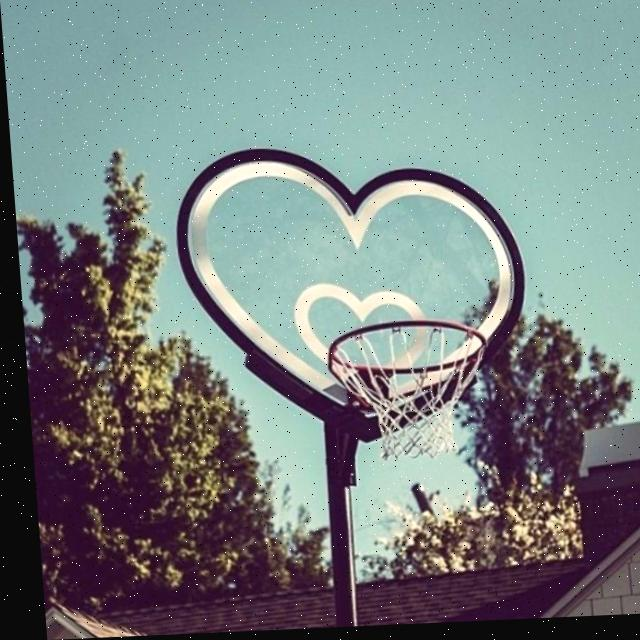hoop: (310, 319, 511, 471)
